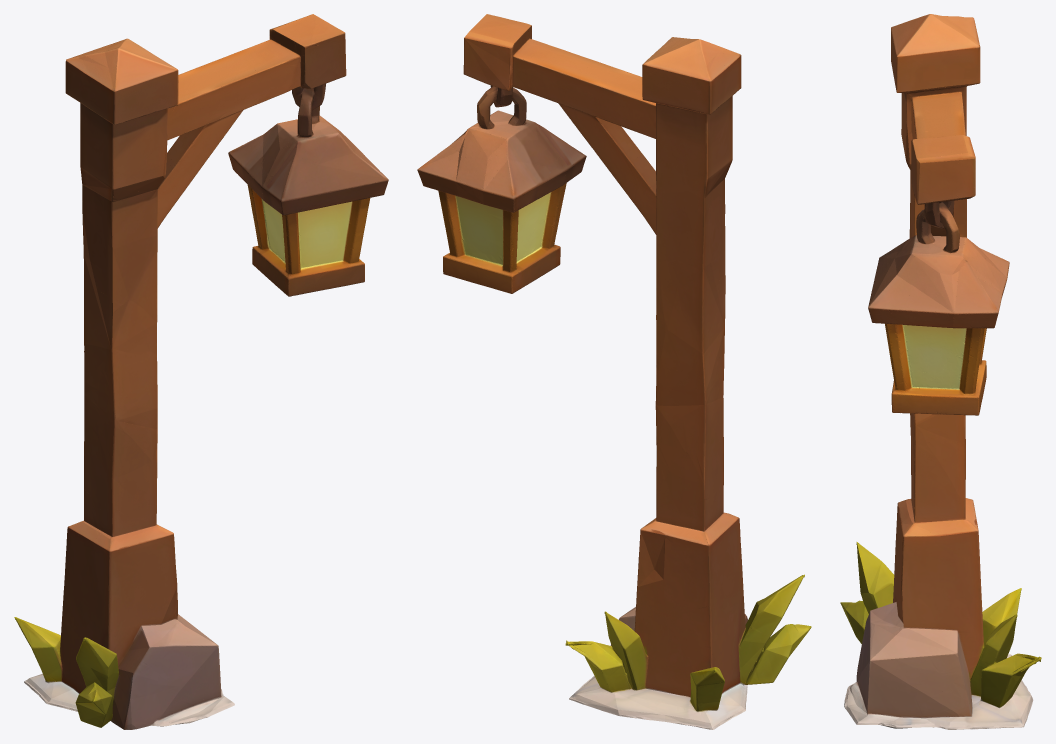
The model's file is KeepSakeLamp-v1.glb.
The picture shows the model from 3 angles, left to right: view 1: azimuth 30°, elevation 25°; view 2: azimuth 150°, elevation 25°; view 3: azimuth 270°, elevation 25°; orthographic projection. The views are drawn at different scales.
Parts seen in each view (by area): view 1: tripo_node_0461e50d-87fb-46f7-ae0e-c0b5f8940fb4; view 2: tripo_node_0461e50d-87fb-46f7-ae0e-c0b5f8940fb4; view 3: tripo_node_0461e50d-87fb-46f7-ae0e-c0b5f8940fb4.
Part boxes in pixels (x1=…): tripo_node_0461e50d-87fb-46f7-ae0e-c0b5f8940fb4: x1=14, y1=14, x2=388, y2=729; tripo_node_0461e50d-87fb-46f7-ae0e-c0b5f8940fb4: x1=417, y1=14, x2=811, y2=729; tripo_node_0461e50d-87fb-46f7-ae0e-c0b5f8940fb4: x1=840, y1=14, x2=1041, y2=729.
Size of the model in its own units: 0.5055 by 0.9822 by 0.267.
1 material, 1 textured.
